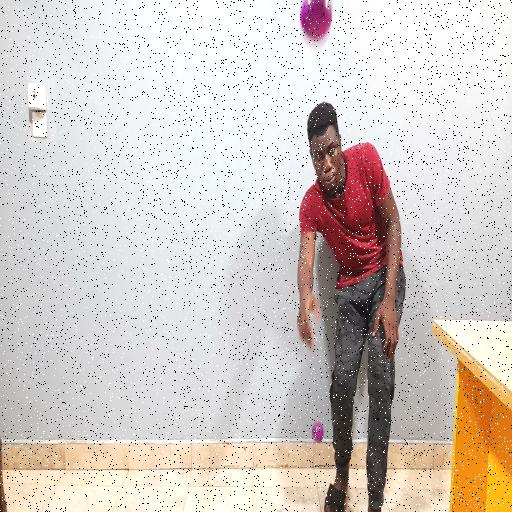plastic-ball: (296, 0, 334, 55)
